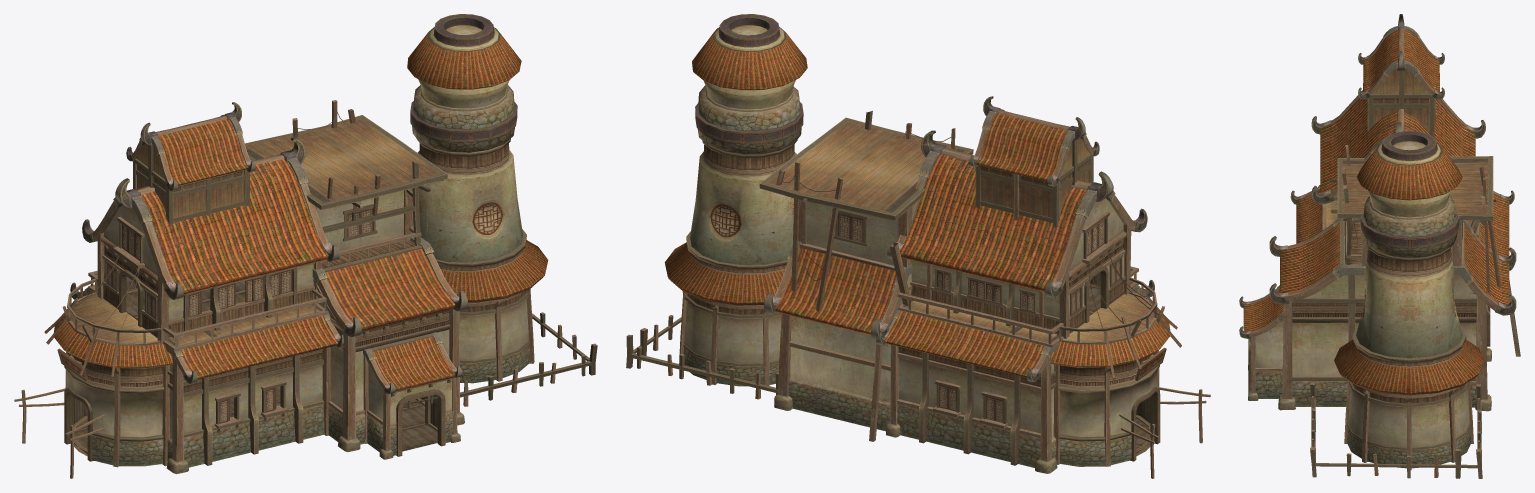
File: Building_002_06.fbx
The picture shows the model from 3 angles, left to right: view 1: azimuth 30°, elevation 25°; view 2: azimuth 150°, elevation 25°; view 3: azimuth 270°, elevation 25°; orthographic projection. The views are drawn at different scales.
Visible parts, largest first — view 1: Building_002_06, Building_002_06_in; view 2: Building_002_06, Building_002_06_in; view 3: Building_002_06.
Part boxes in pixels (x1,y1,x2,y2): Building_002_06: (14,14,597,478); Building_002_06_in: (74,276,437,456); Building_002_06: (626,14,1210,478); Building_002_06_in: (1089,274,1150,456); Building_002_06: (1239,14,1520,478).
Size of the model in its own units: 4343 by 2678 by 2270.
Materials: 2 (2 with a texture image).
